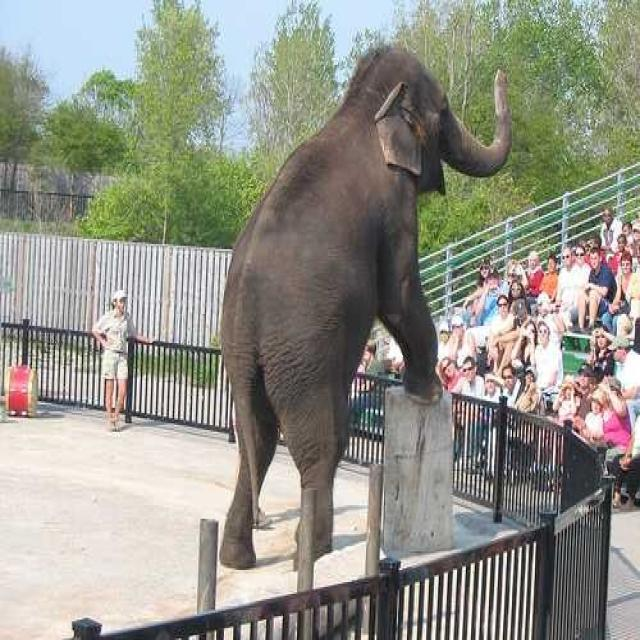Elephant: (216, 43, 512, 636)
person: (91, 289, 153, 430)
